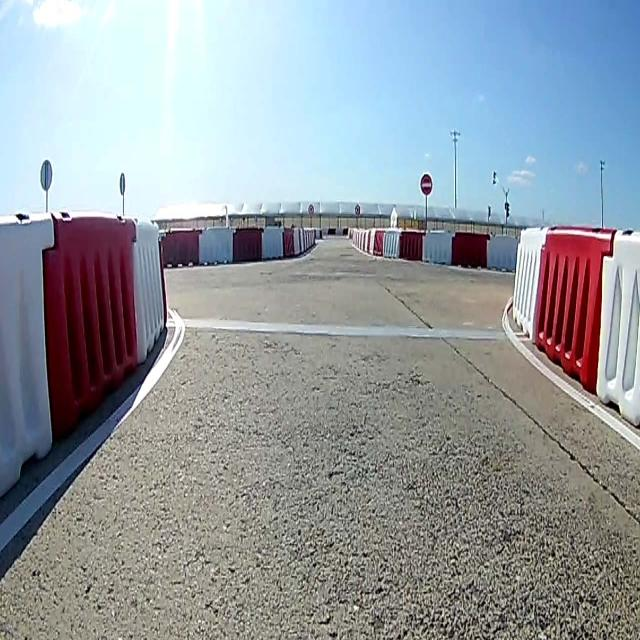girisyok: (420, 173, 432, 196)
